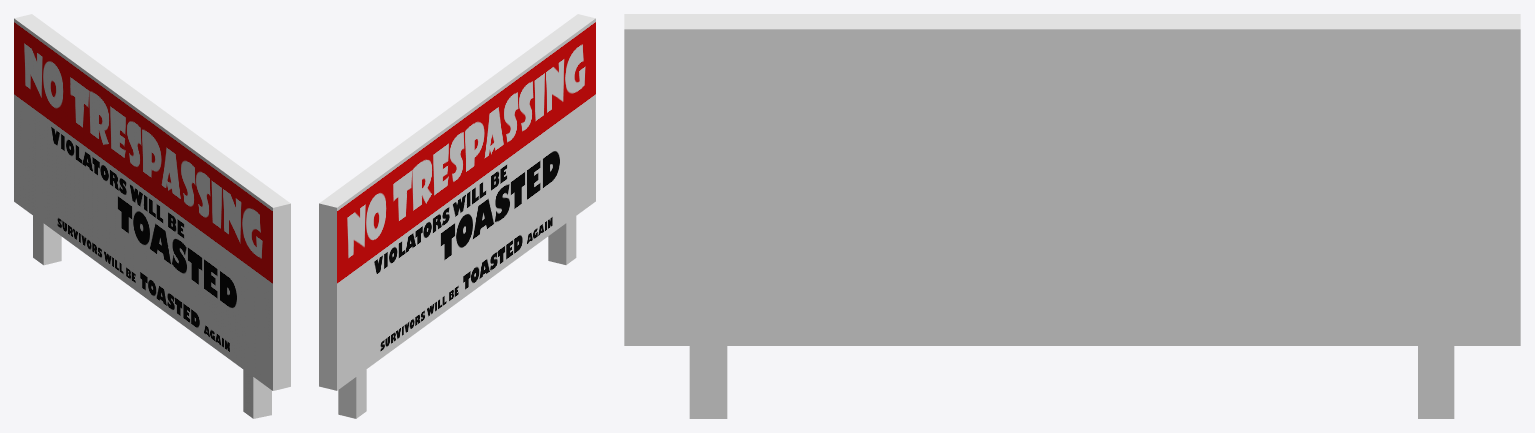
File: barricade02.fbx
The picture shows the model from 3 angles, left to right: view 1: azimuth 30°, elevation 25°; view 2: azimuth 150°, elevation 25°; view 3: azimuth 270°, elevation 25°; orthographic projection. The views are drawn at different scales.
Visible parts, largest first — view 1: Mesh; view 2: Mesh; view 3: Mesh.
Boxes of the visible parts, x1,y1,x2,y2 form: Mesh: (14, 14, 290, 418); Mesh: (319, 14, 595, 418); Mesh: (624, 14, 1520, 418).
Size of the model in its own units: 0.3205 by 3.84 by 8.
Materials: 1 (1 with a texture image).
